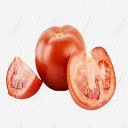tomato: (35, 25, 86, 91), (67, 46, 117, 110), (6, 53, 43, 101)
